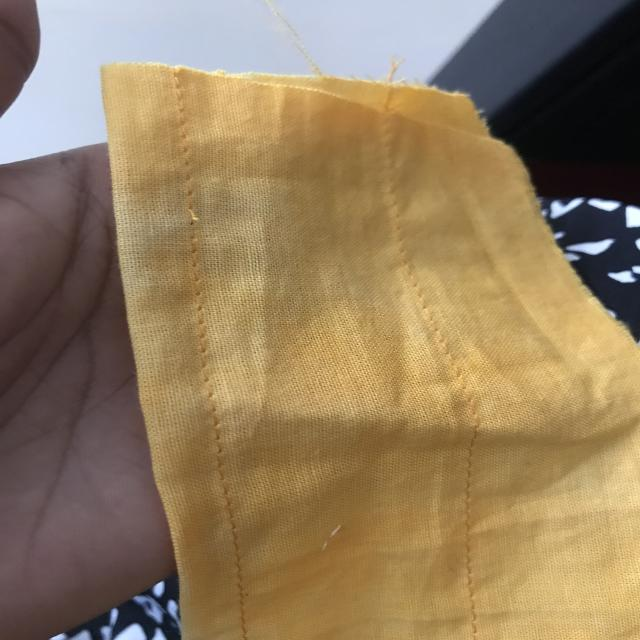broken: (163, 188, 213, 258)
